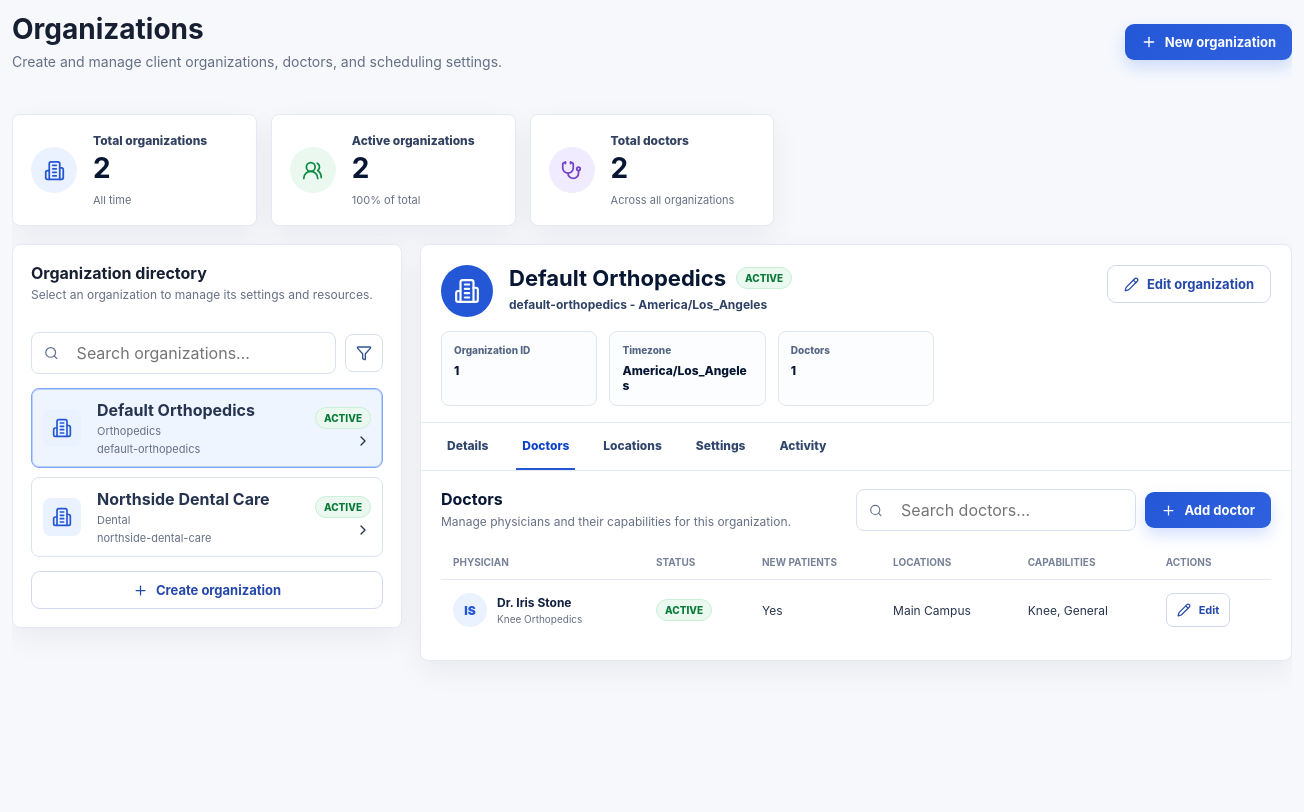
Test case: keeps doctor rows scoped to the selected organization
Check: the text "Dr. Iris Stone" is shown, box [497, 595, 572, 610]
Click the button "Northside Dental Care Dental northside-dental-care ACTIVE" at (62, 517), box [31, 477, 383, 557]
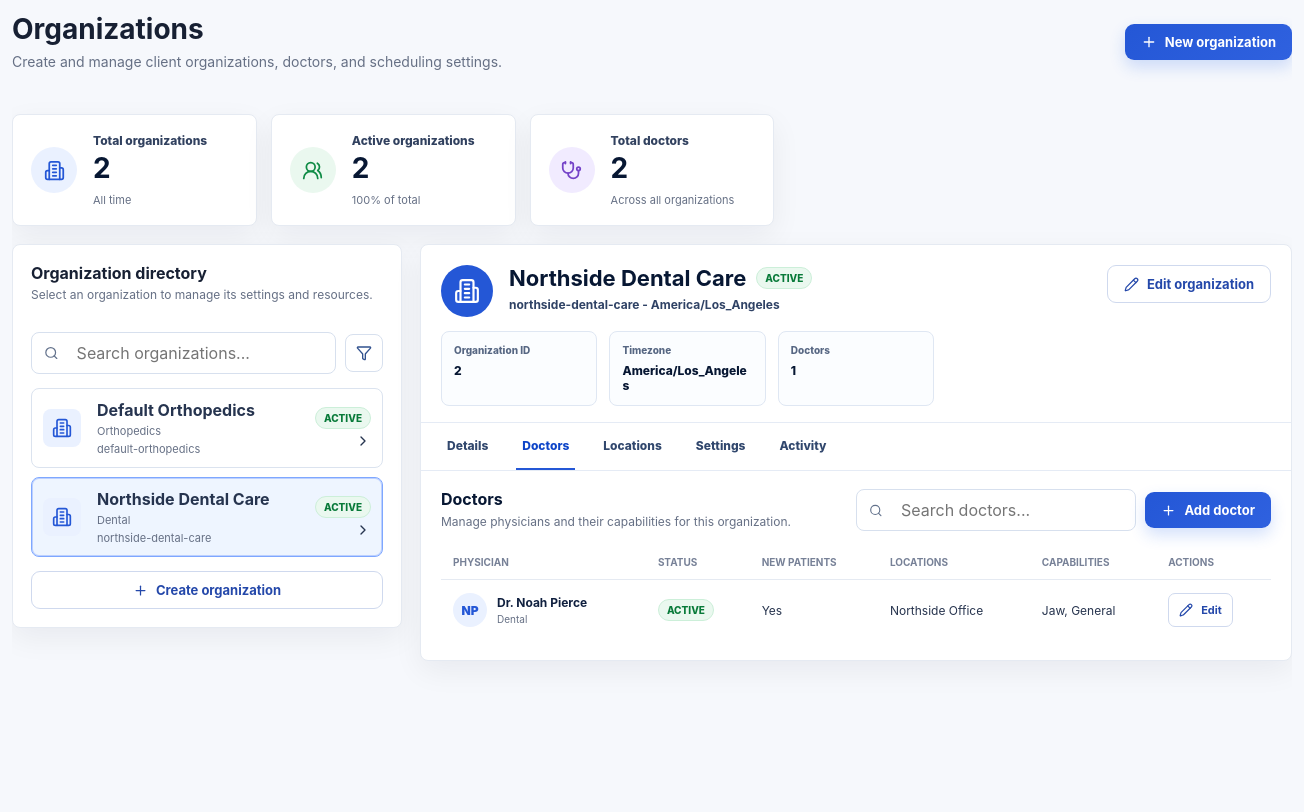
Check: the text "Dr. Noah Pierce" is shown, box [497, 595, 587, 610]
Check: the text "Dr. Iris Stone" is gone
